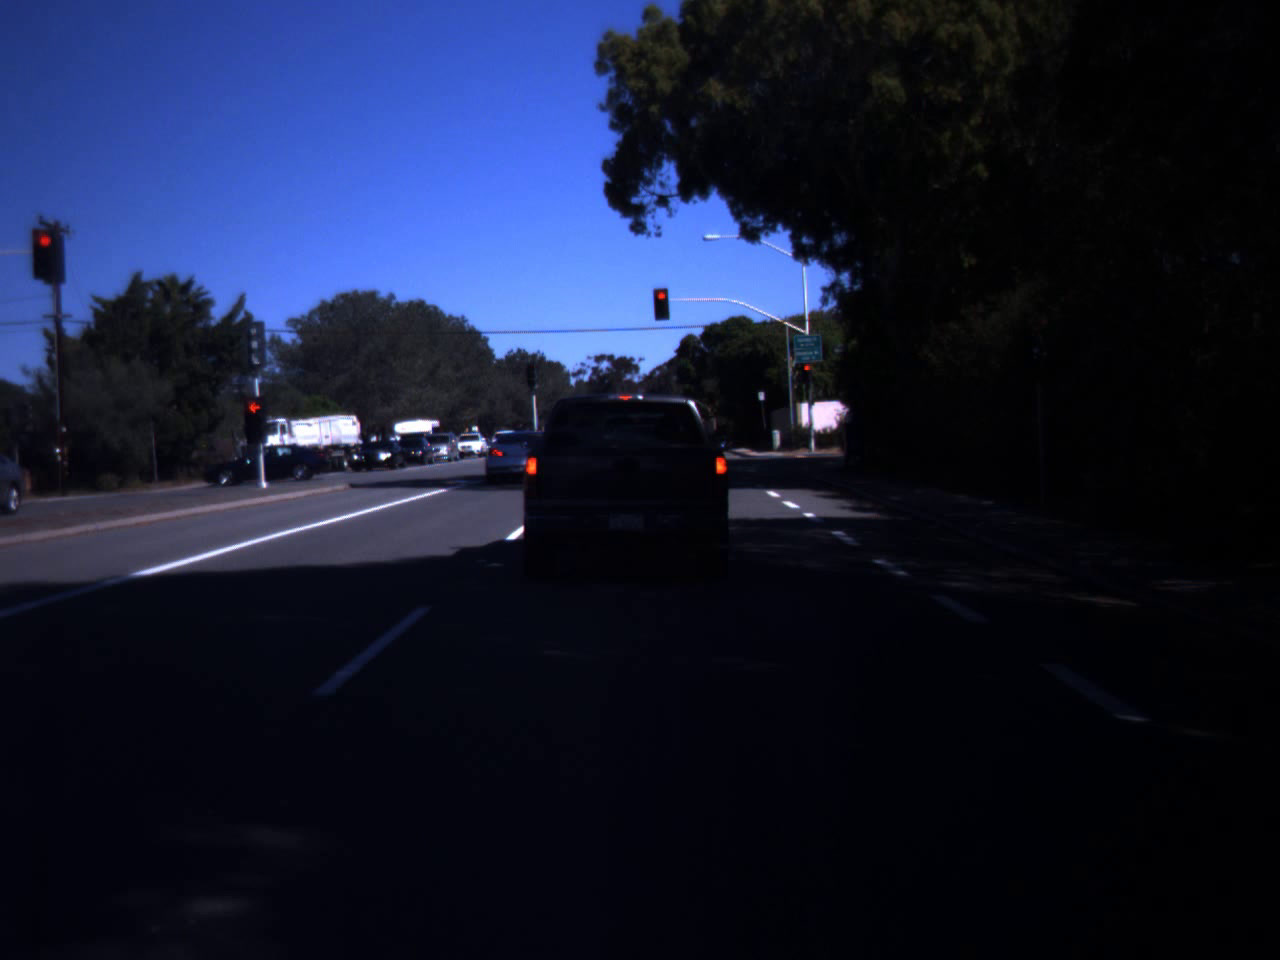stop: (243, 401, 267, 432), (649, 289, 673, 316), (36, 235, 54, 262)
